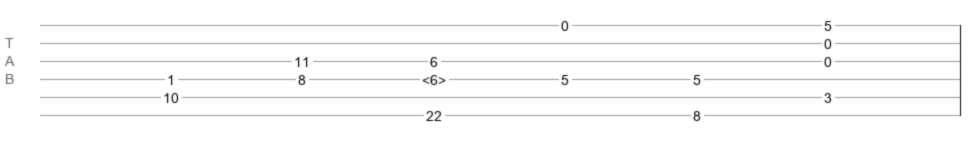0: (561, 18, 569, 28), (824, 54, 832, 64), (824, 36, 832, 46)
1: (167, 72, 175, 82)
10: (163, 90, 179, 100)
11: (294, 54, 310, 64)
22: (426, 108, 442, 118)
3: (824, 90, 832, 100)
5: (561, 72, 569, 82), (693, 72, 701, 82), (824, 18, 832, 28)
6: (430, 54, 438, 64)
8: (298, 72, 306, 82), (693, 108, 701, 118)
harmonic: (422, 72, 446, 82)
